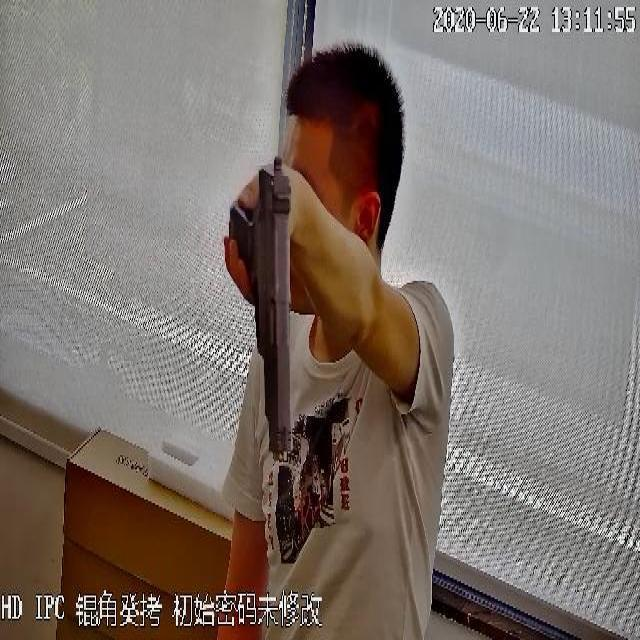pistol: (228, 154, 292, 462)
